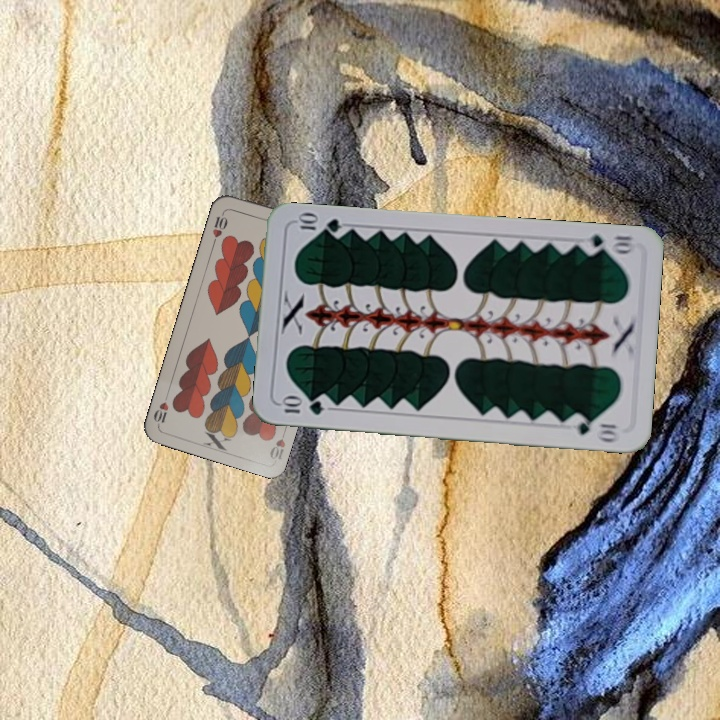G10: (578, 230, 637, 258), (278, 395, 326, 417)
H10: (208, 207, 230, 247), (266, 424, 289, 462)
